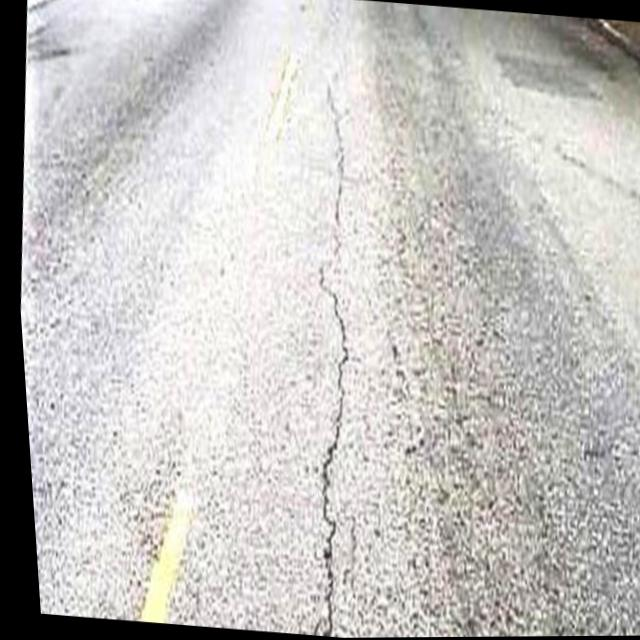Crack: (252, 73, 386, 639)
